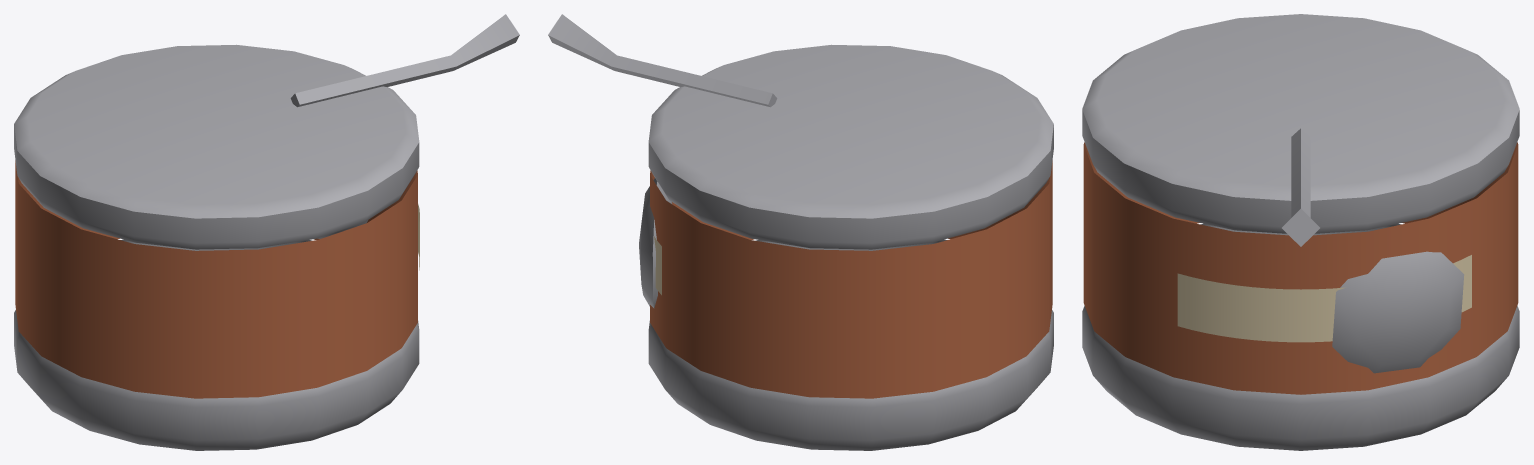
The model's file is meat_tin.glb.
3 views of the same model, side by side, from view 1: azimuth 30°, elevation 25°; view 2: azimuth 150°, elevation 25°; view 3: azimuth 270°, elevation 25° (orthographic). The views are drawn at different scales.
Parts seen in each view (by area): view 1: teil0, teil1, teil3; view 2: teil0, teil1, teil3; view 3: teil0, teil1, teil3, teil2.
Boxes of the visible parts, bbox=[...] form: teil0: bbox=[14, 44, 419, 450]; teil1: bbox=[15, 160, 417, 398]; teil3: bbox=[290, 14, 519, 238]; teil0: bbox=[648, 44, 1053, 450]; teil1: bbox=[650, 160, 1052, 398]; teil3: bbox=[548, 14, 777, 308]; teil0: bbox=[1082, 14, 1519, 450]; teil1: bbox=[1083, 142, 1518, 394]; teil3: bbox=[1282, 128, 1464, 373]; teil2: bbox=[1177, 255, 1471, 342].
Bounding box in the file's own units: 0.1213 × 0.0698 × 0.09.
